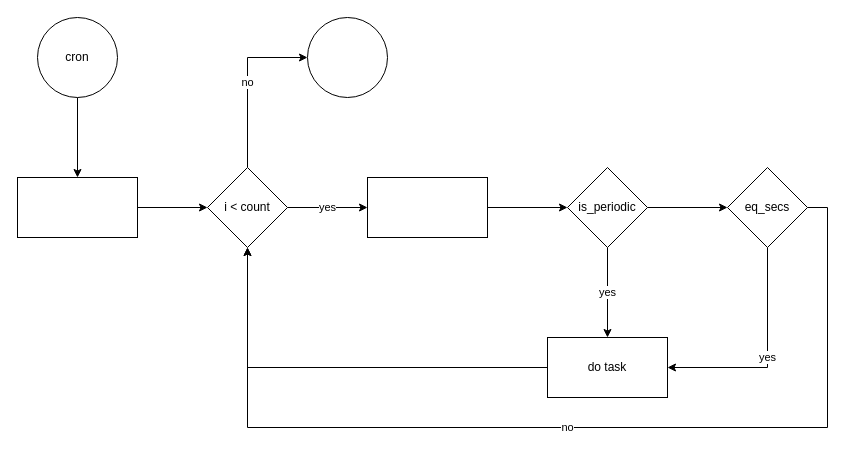
The diagram is 853 pixels wide and 453 high, and some of its shapes have lost their labels. The box of each missing label's shape, as (x1, y1, x2, y2) in pixels:
end: (306, 16, 388, 98)
task = tasks[i++]: (366, 176, 488, 238)
task_count = N task_iindex = 0: (16, 176, 138, 238)
